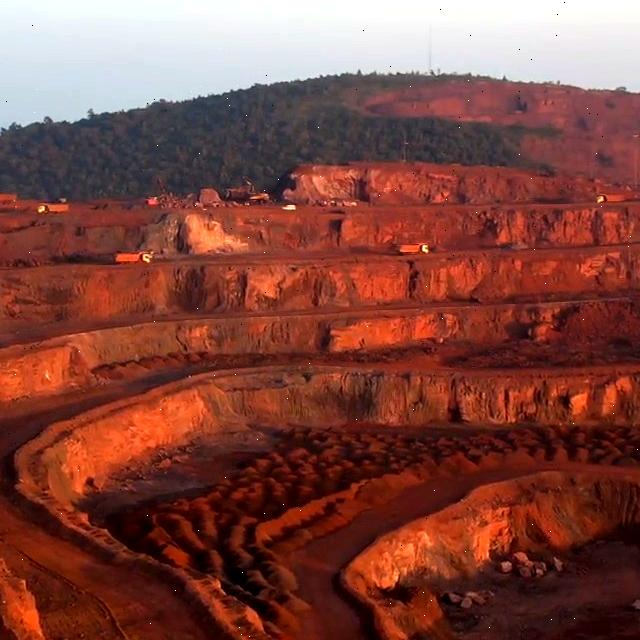Dumper truck: (31, 202, 70, 216), (111, 252, 152, 265), (395, 242, 429, 254), (596, 193, 625, 205), (0, 192, 19, 208)
Excavator: (240, 174, 269, 205)
